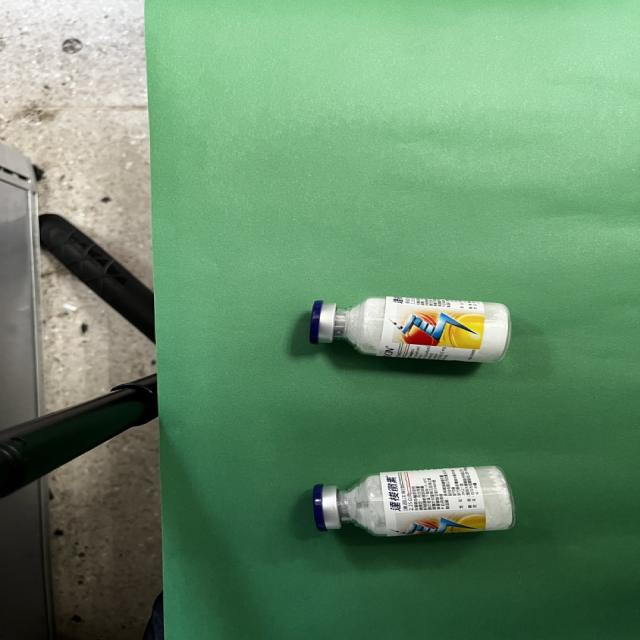Vials: (313, 466, 514, 536), (311, 296, 510, 362)
